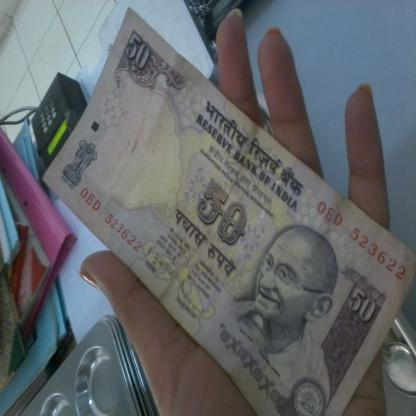Old50Front: (41, 6, 416, 416)
